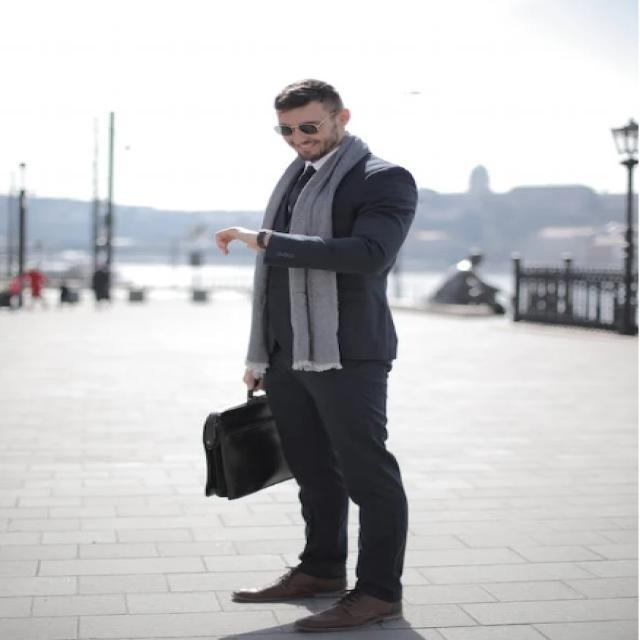Watch: (250, 221, 274, 253)
